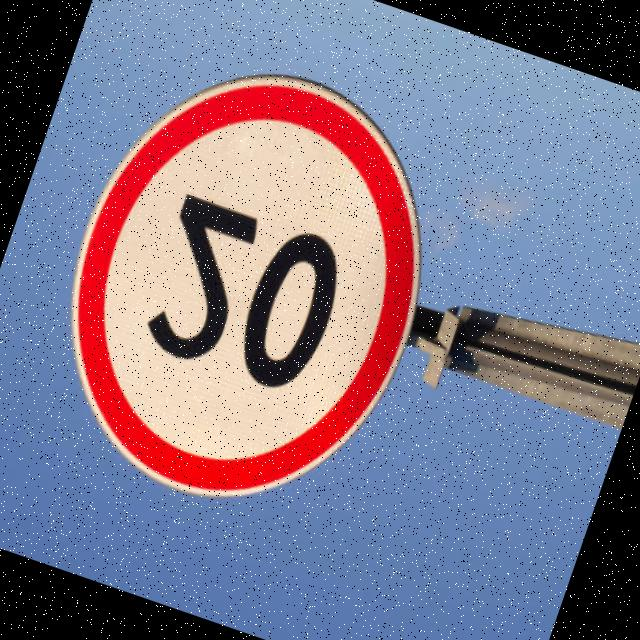speed_limit_20: (9, 19, 482, 550)
